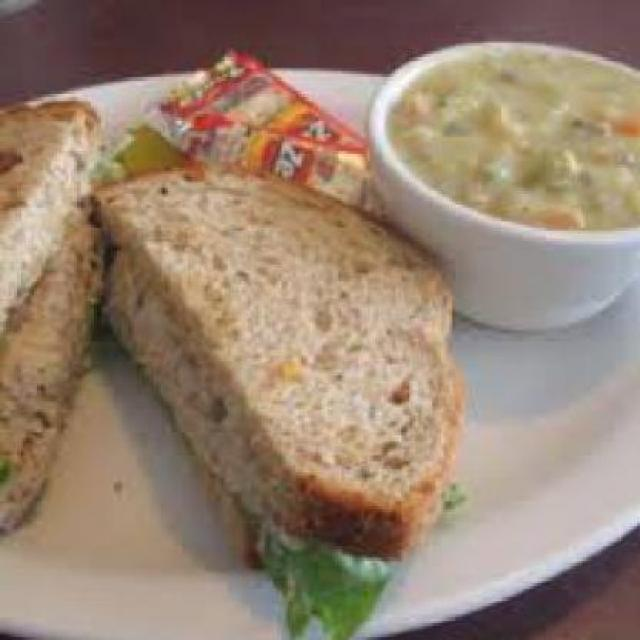clam chowder: (358, 12, 637, 316)
